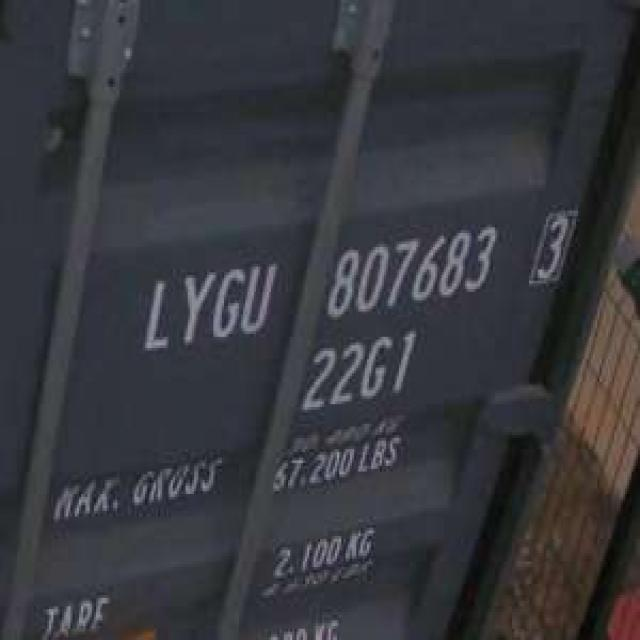dv: (524, 193, 580, 294)
owner: (129, 258, 280, 358)
serial: (317, 221, 506, 328)
size: (296, 327, 419, 417)
